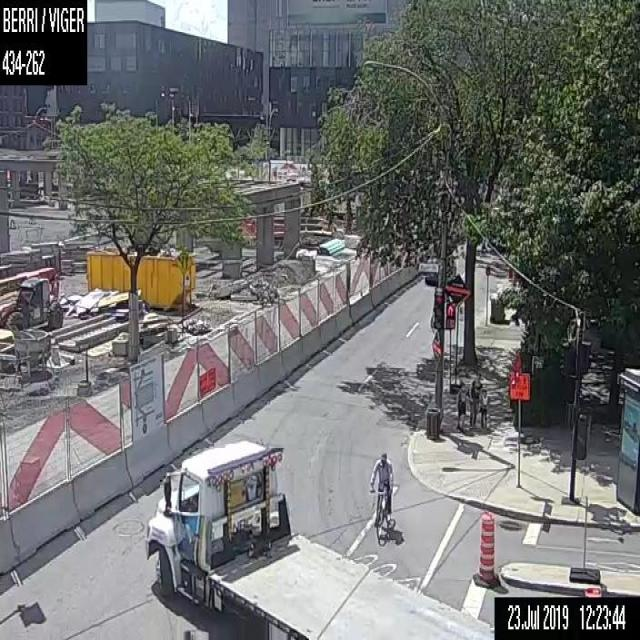construction: (0, 166, 435, 573), (508, 370, 531, 489), (473, 510, 498, 588)
cyclist: (369, 451, 395, 544)
pedestrian: (466, 372, 482, 429), (456, 383, 466, 430), (479, 388, 489, 428)
vehicle: (144, 433, 494, 639), (0, 274, 63, 331), (425, 252, 456, 287)
